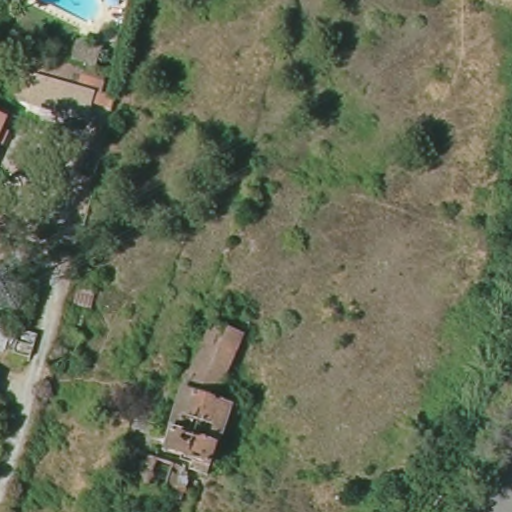pool: (34, 1, 108, 32)
